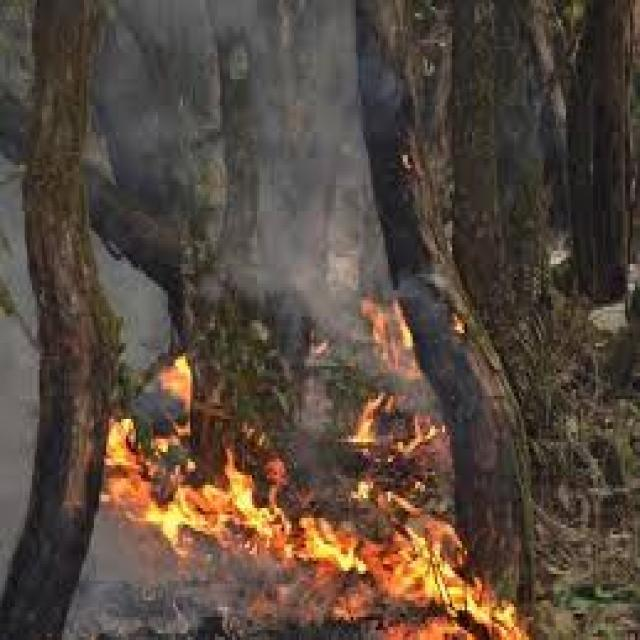Fire: (80, 320, 546, 640)
